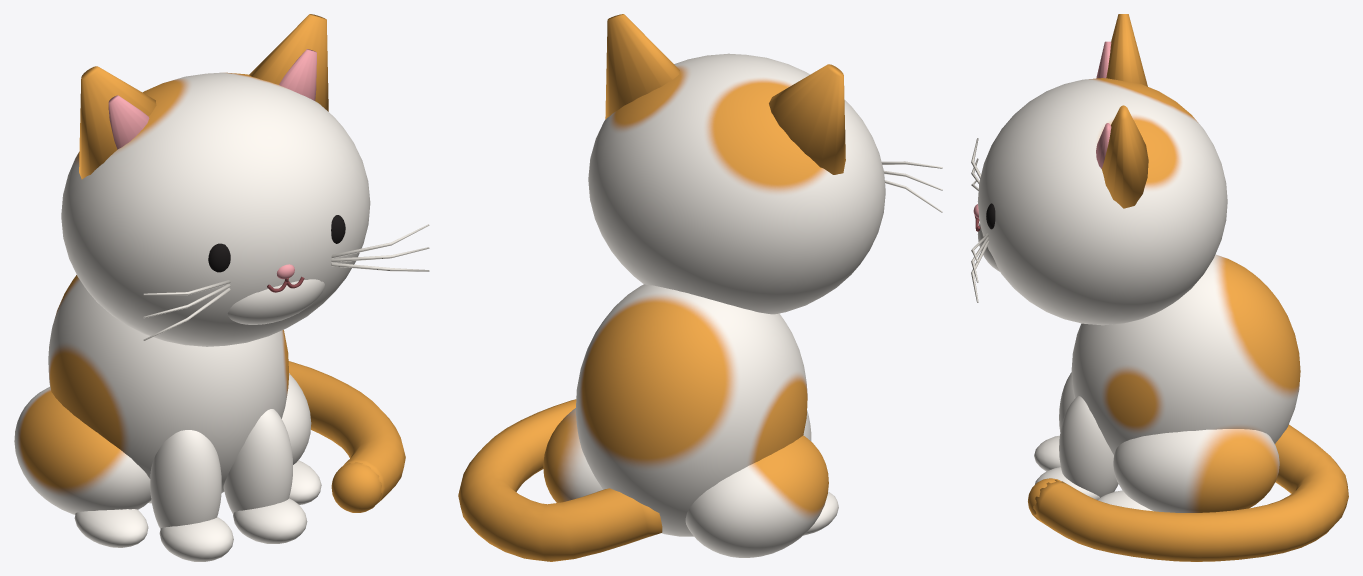
The model's file is cat.glb.
3 views of the same model, side by side, from view 1: azimuth 30°, elevation 25°; view 2: azimuth 150°, elevation 25°; view 3: azimuth 270°, elevation 25° (orthographic). The views are drawn at different scales.
Parts seen in each view (by area): view 1: Cat_Coat, Cat_Tail, Cat_FrontLeg_L, Cat_FrontLeg_R, Cat_Ear_L, Cat_Ear_R, Cat_Cheeks, Cat_Paw_L, Cat_Paw_R, Cat_BackPaw_L, Cat_TailTip, Cat_EarInner_L (+3 smaller); view 2: Cat_Coat, Cat_Tail, Cat_Ear_L, Cat_Ear_R; view 3: Cat_Coat, Cat_Tail, Cat_FrontLeg_R, Cat_Ear_R, Cat_Ear_L, Cat_Paw_L, Cat_BackPaw_R.
Part boxes in pixels (x1,y1,x2,y2): Cat_Coat: (14,72,370,514); Cat_Tail: (288,361,405,504); Cat_FrontLeg_L: (150,430,221,528); Cat_FrontLeg_R: (223,409,292,513); Cat_Ear_L: (79,66,156,179); Cat_Ear_R: (249,14,328,111); Cat_Cheeks: (227,279,324,324); Cat_Paw_L: (159,517,233,561); Cat_Paw_R: (233,498,307,543); Cat_BackPaw_L: (74,509,148,547); Cat_TailTip: (331,462,381,512); Cat_EarInner_L: (108,95,149,149); Cat_Coat: (543,53,885,557); Cat_Tail: (458,399,662,561); Cat_Ear_L: (769,64,845,174); Cat_Ear_R: (605,14,679,119); Cat_Coat: (977,78,1300,512); Cat_Tail: (1033,424,1348,561); Cat_FrontLeg_R: (1059,396,1118,497); Cat_Ear_R: (1101,105,1148,208); Cat_Ear_L: (1106,14,1147,86); Cat_Paw_L: (1034,435,1060,471); Cat_BackPaw_R: (1098,490,1153,511).
Size of the model in its own units: 0.3442 by 0.4555 by 0.3629.
7 materials, 1 textured.
